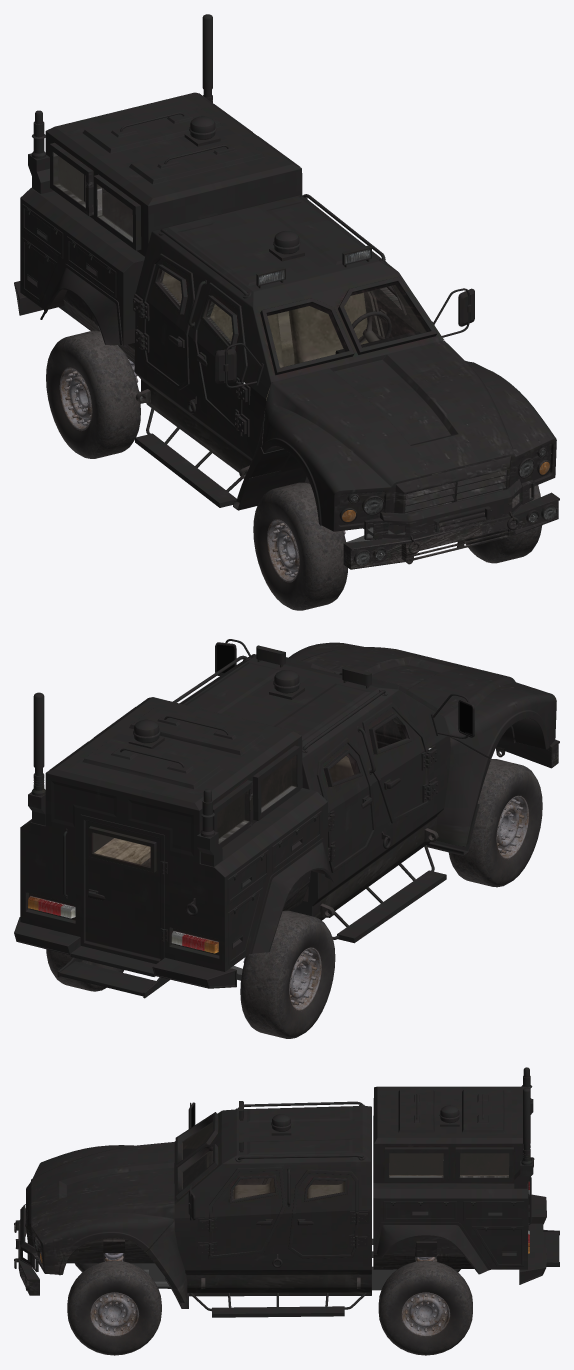
Rendered from apc.glb.
3 renders of one model, top to bottom at view 1: azimuth 30°, elevation 25°; view 2: azimuth 150°, elevation 25°; view 3: azimuth 270°, elevation 25°, orthographic. The views are drawn at different scales.
Visible parts, largest first — view 1: body_front_exterior_0, shock_absorber_front_wheel_0, door_FL_in_interior_0, body_mid_windows_0, bumper_extra_lights_0; view 2: body_front_exterior_0, shock_absorber_front_wheel_0, door_FL_in_interior_0, body_mid_windows_0, bumper_extra_lights_0; view 3: body_front_exterior_0, shock_absorber_front_wheel_0, door_FL_in_interior_0, body_mid_windows_0.
Boxes of the visible parts, box(x1,y1,x2,y2) form: body_front_exterior_0: box(14, 14, 559, 569); shock_absorber_front_wheel_0: box(46, 326, 542, 610); door_FL_in_interior_0: box(53, 152, 426, 400); body_mid_windows_0: box(54, 153, 420, 360); bumper_extra_lights_0: box(259, 249, 555, 565); body_front_exterior_0: box(14, 639, 559, 998); shock_absorber_front_wheel_0: box(46, 759, 542, 1038); door_FL_in_interior_0: box(93, 718, 404, 866); body_mid_windows_0: box(93, 723, 396, 866); bumper_extra_lights_0: box(28, 896, 218, 953); body_front_exterior_0: box(14, 1067, 559, 1317); shock_absorber_front_wheel_0: box(67, 1238, 472, 1355); door_FL_in_interior_0: box(182, 1122, 509, 1199); body_mid_windows_0: box(179, 1135, 508, 1199).
Bounding box in the file's own units: 2.83 × 3.58 × 6.88.
Materials: 5 (5 with a texture image).
